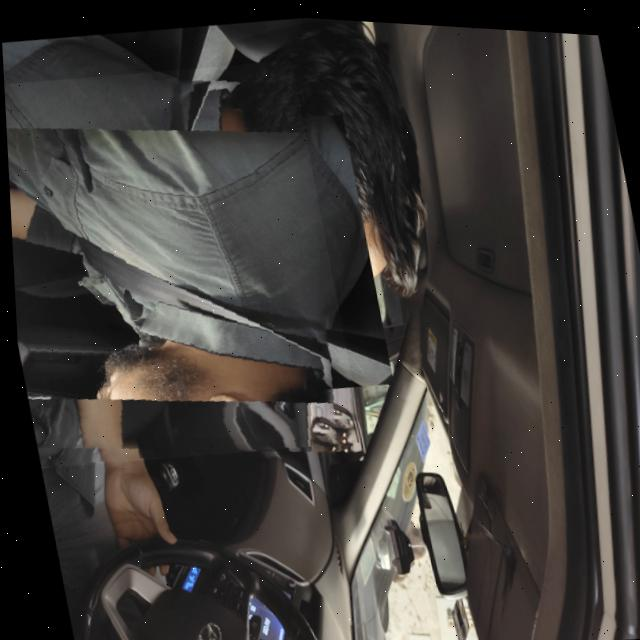seatbelt: (2, 42, 361, 482)
